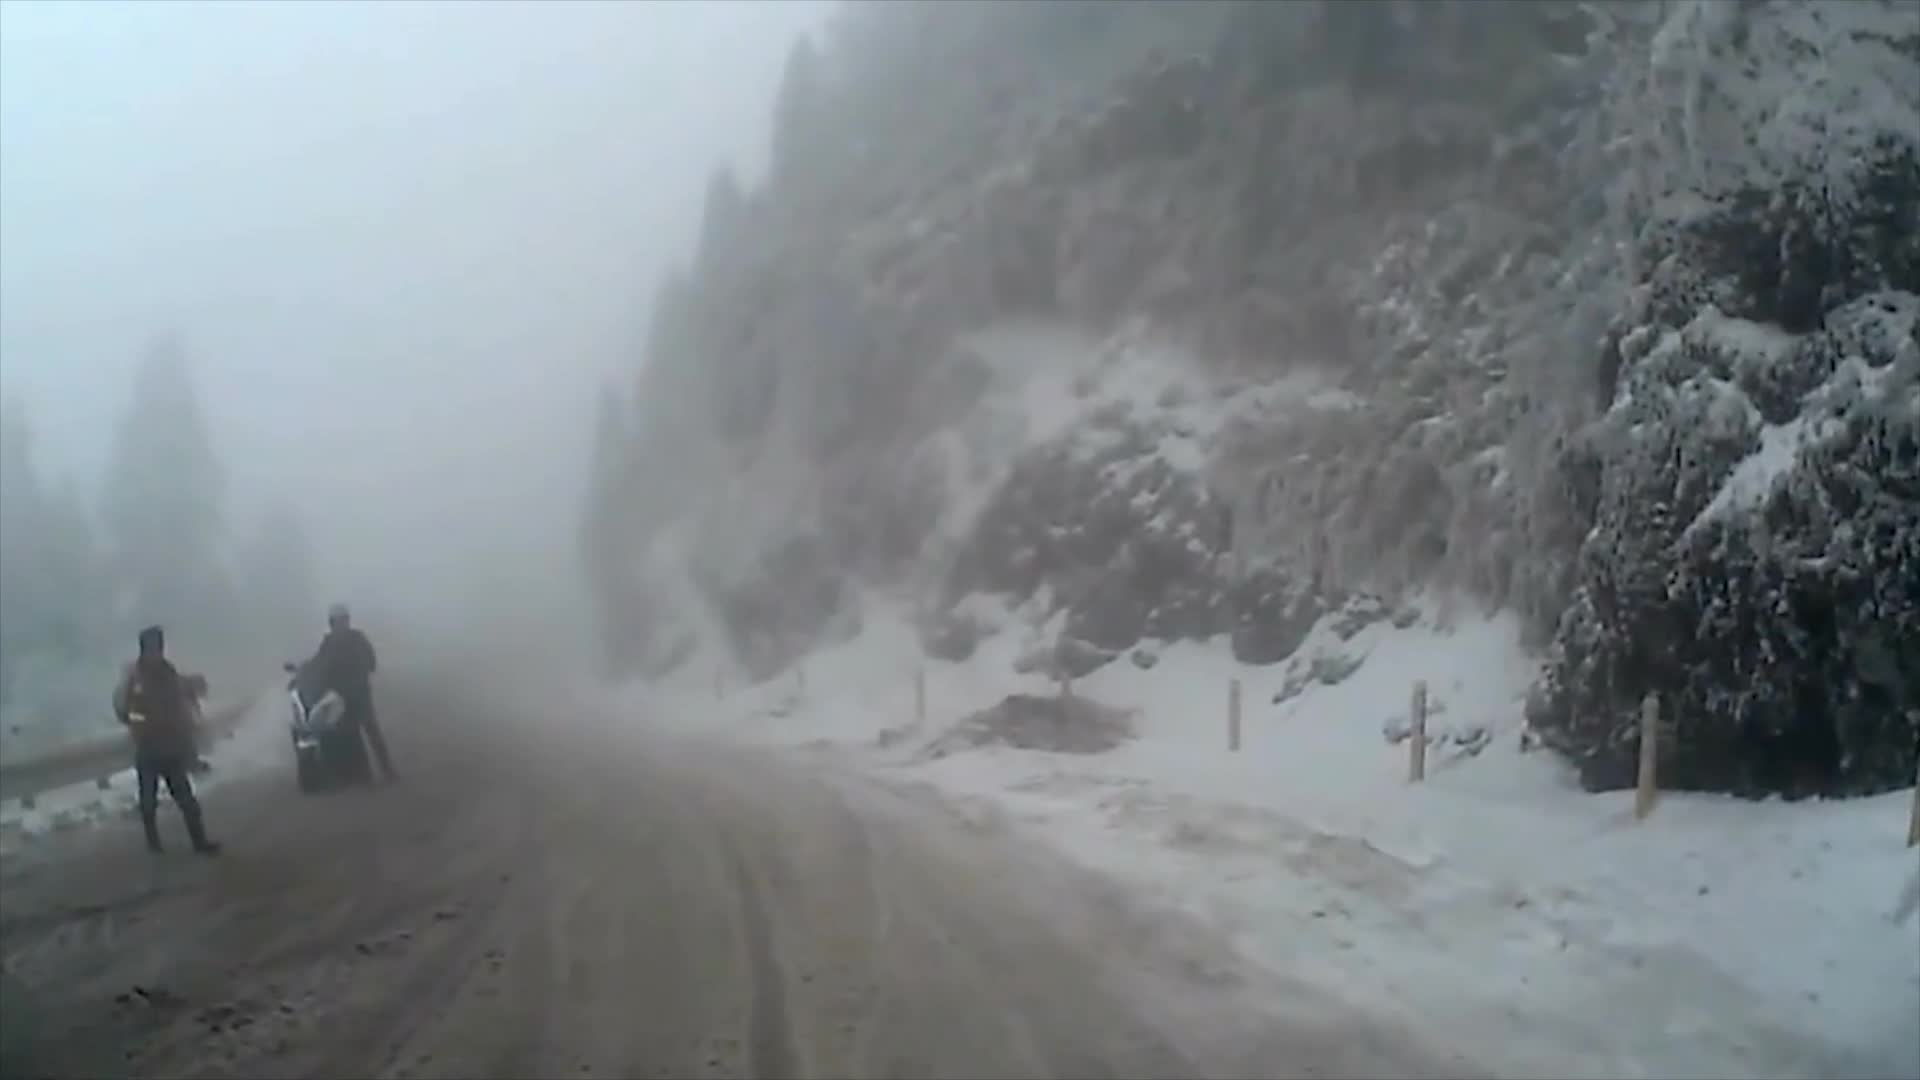pedestrian: (112, 626, 221, 854), (302, 599, 401, 794)
